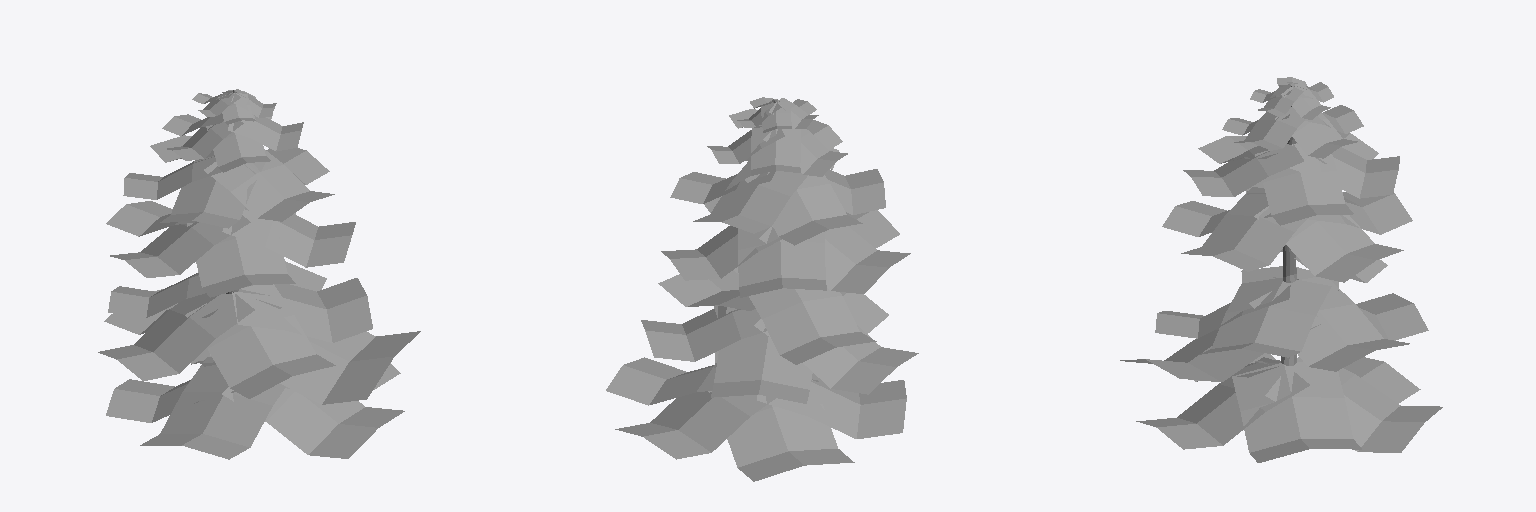
Rendered from Pine_3.obj.
3 renders of one model, left to right at view 1: azimuth 30°, elevation 25°; view 2: azimuth 150°, elevation 25°; view 3: azimuth 270°, elevation 25°, orthographic.
Visible parts, largest first — view 1: Pine_3; view 2: Pine_3; view 3: Pine_3.
Boxes of the visible parts, box(x1,y1,x2,y2) form: Pine_3: box(98, 89, 420, 459); Pine_3: box(606, 97, 918, 481); Pine_3: box(1120, 77, 1442, 462).
Bounding box in the file's own units: 6.88 × 8.1 × 7.29.